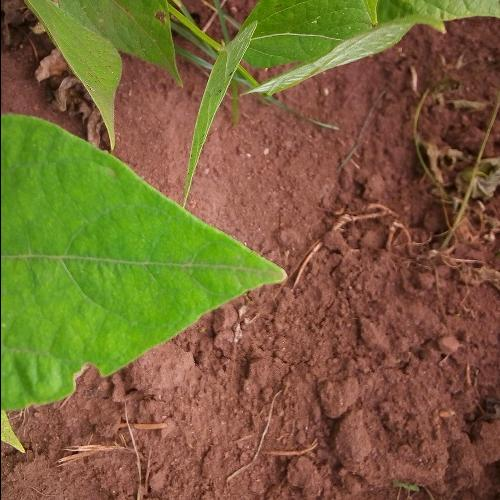sehat: (5, 209, 167, 332)
